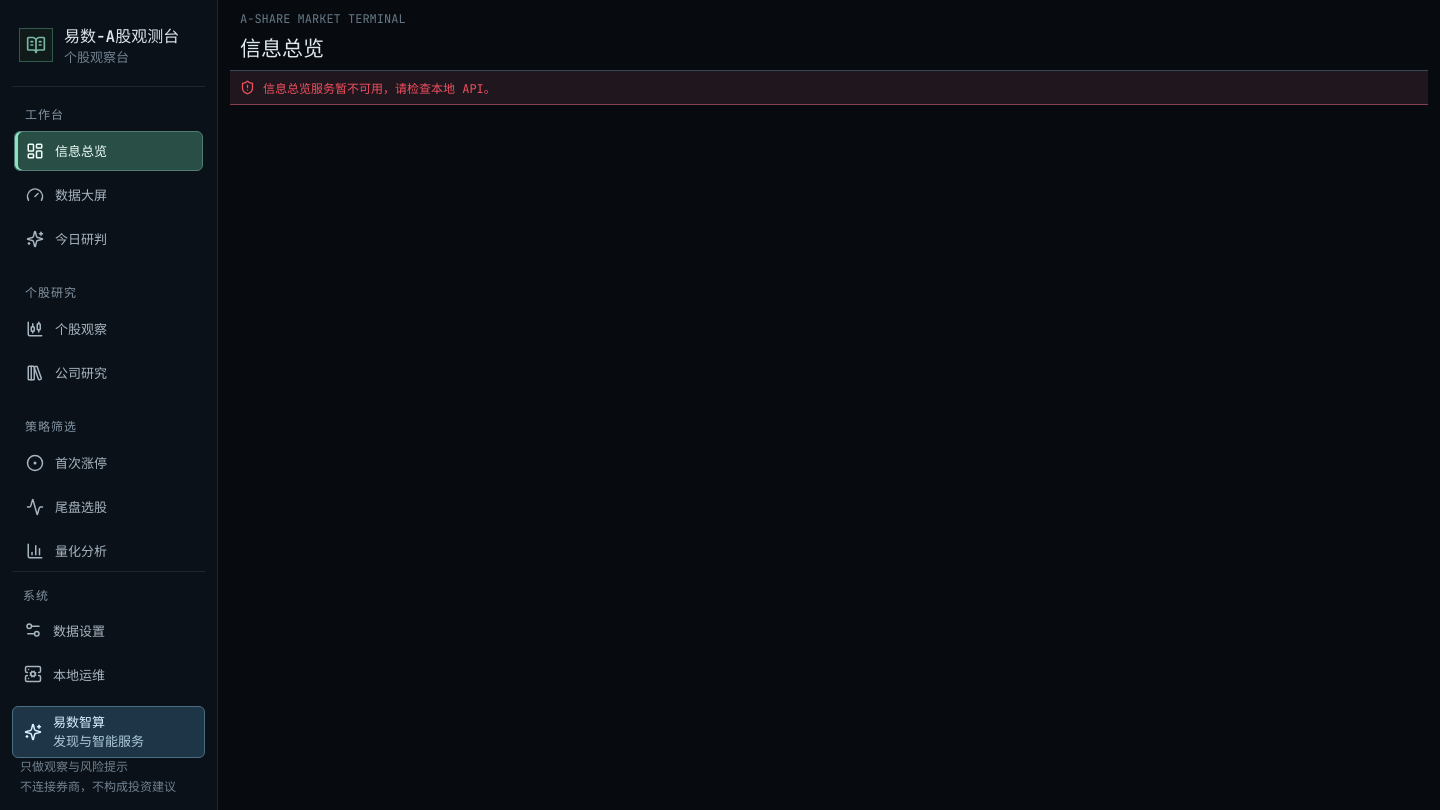
Dashboard beginner shell › wires the short-term strategy loader through the quant-analysis route
The width and height of the screenshot is (1440, 810).
Click the button "量化分析" at (108, 551), box [14, 531, 203, 571]
(page scrolled)
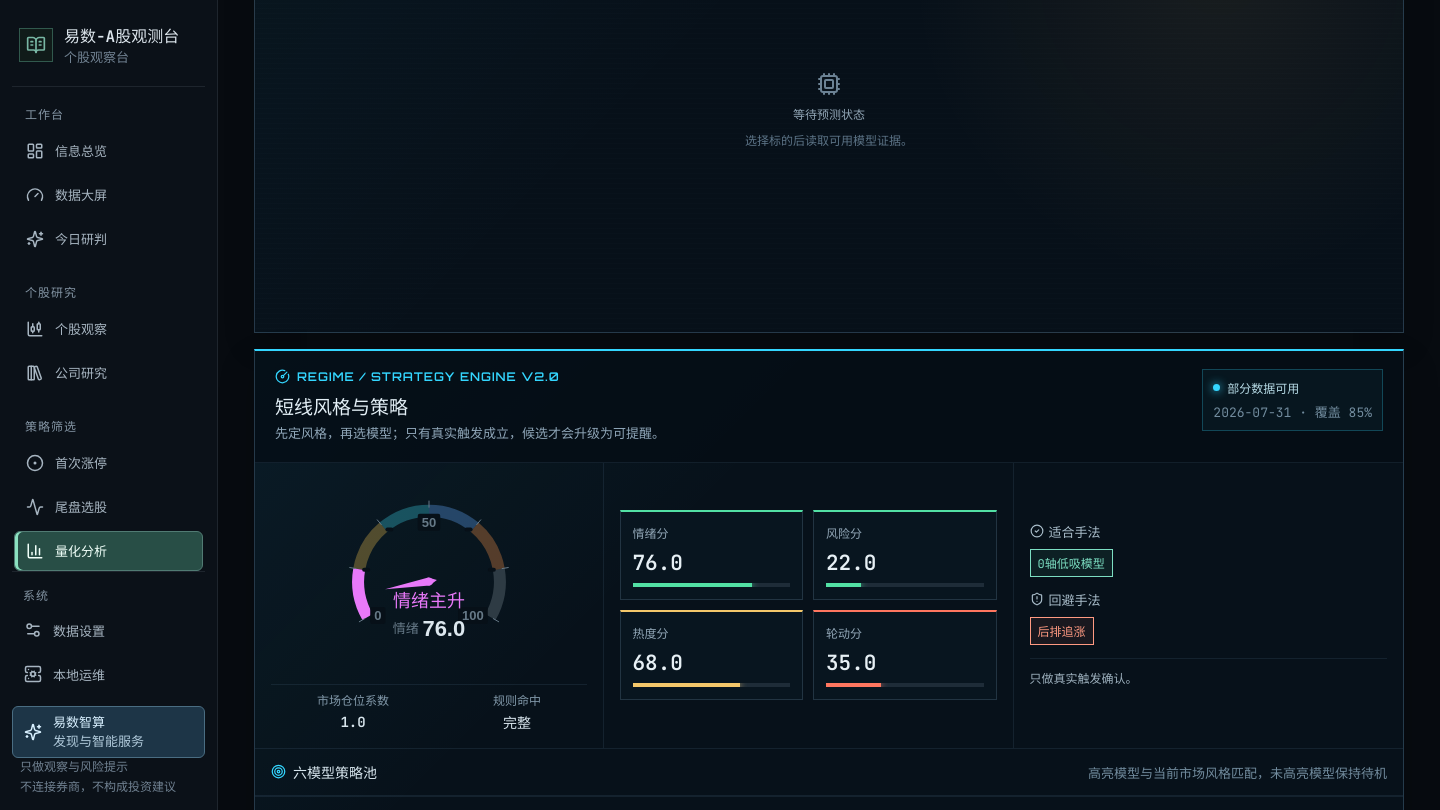
Expected: the heading "短线风格与策略" is shown, [275, 395, 408, 419]
